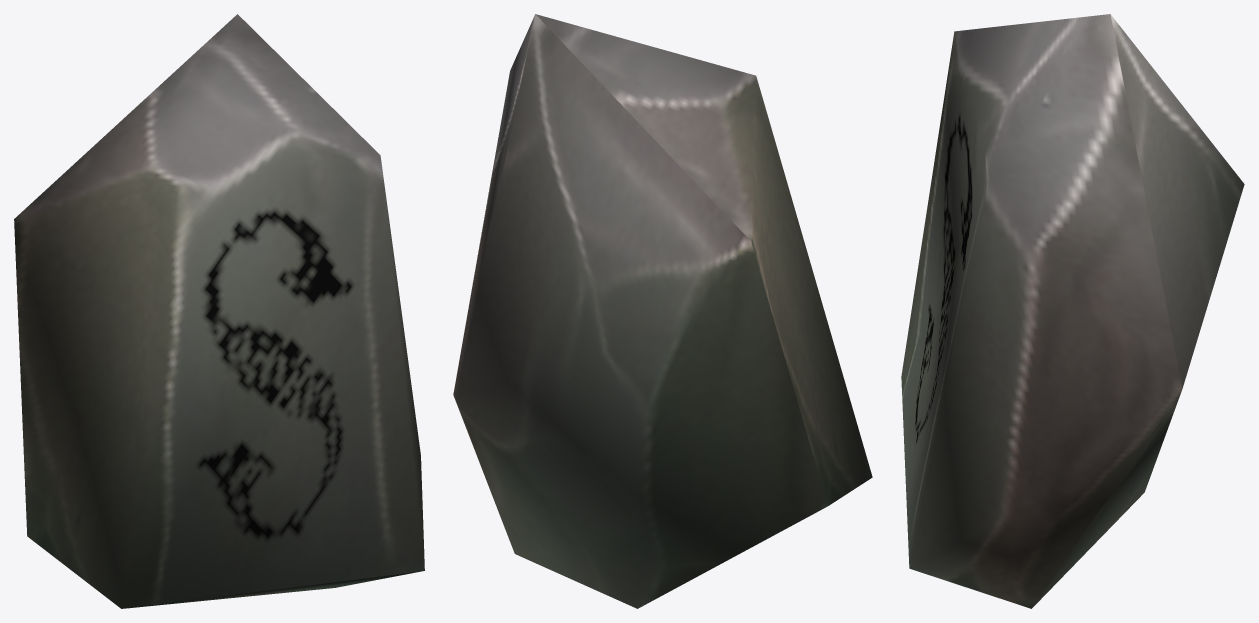
3 renders of one model, left to right at view 1: azimuth 30°, elevation 25°; view 2: azimuth 150°, elevation 25°; view 3: azimuth 270°, elevation 25°, orthographic. The views are drawn at different scales.
Visible parts, largest first — view 1: Տ.001; view 2: Տ.001; view 3: Տ.001.
Part boxes in pixels (x1,y1,x2,y2): Տ.001: (14, 14, 424, 608); Տ.001: (453, 14, 872, 608); Տ.001: (901, 14, 1244, 608).
Bounding box in the file's own units: 94.44 × 134 × 73.78.
